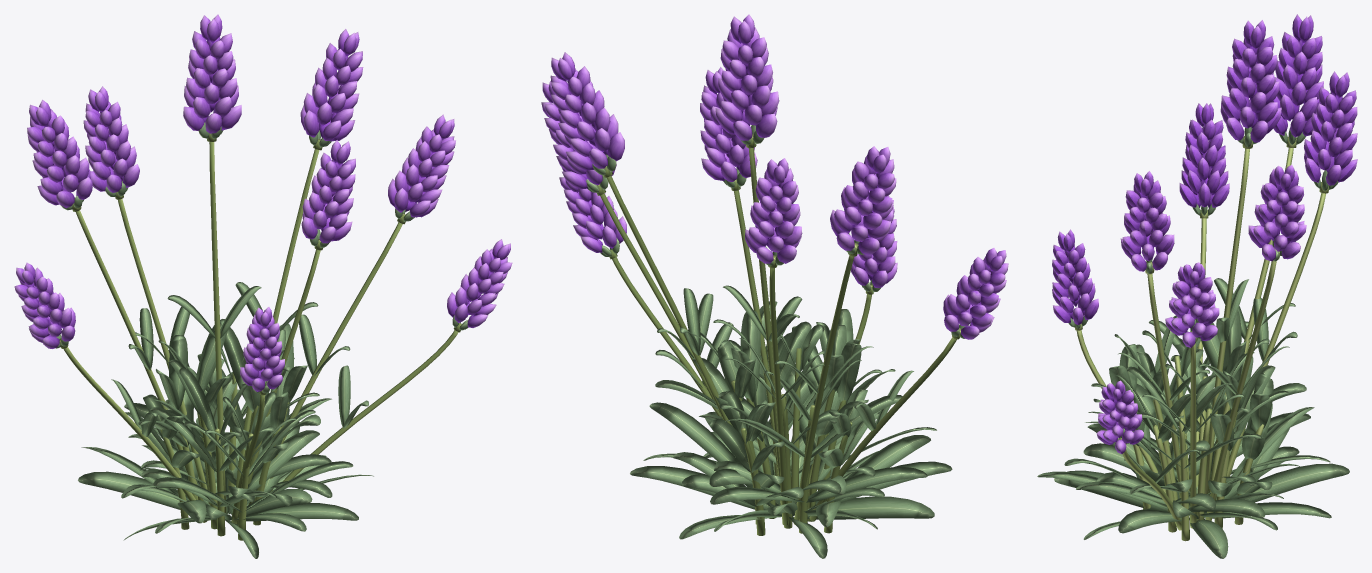
The model's file is NP_Lavender_Ready.fbx.
3 renders of one model, left to right at view 1: azimuth 30°, elevation 25°; view 2: azimuth 150°, elevation 25°; view 3: azimuth 270°, elevation 25°, orthographic. The views are drawn at different scales.
Visible parts, largest first — view 1: NP_Lavender_Ready; view 2: NP_Lavender_Ready; view 3: NP_Lavender_Ready.
Boxes of the visible parts, x1,y1,x2,y2 form: NP_Lavender_Ready: (14, 14, 512, 558); NP_Lavender_Ready: (541, 14, 1008, 558); NP_Lavender_Ready: (1037, 14, 1357, 558).
Bounding box in the file's own units: 101 × 103 × 58.94.
1 material, 1 textured.
